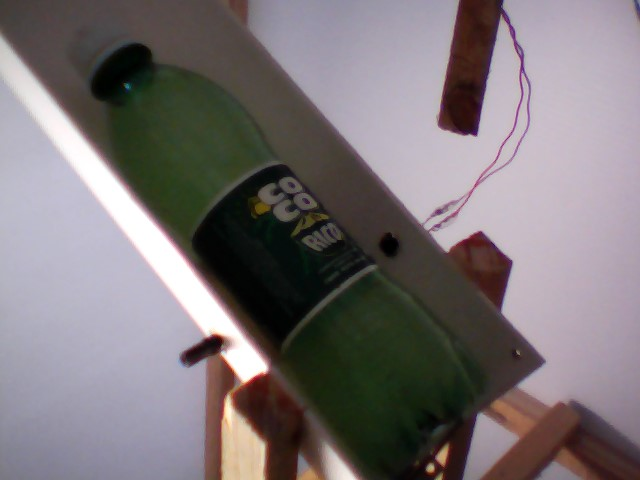plastico: (67, 10, 498, 470)
